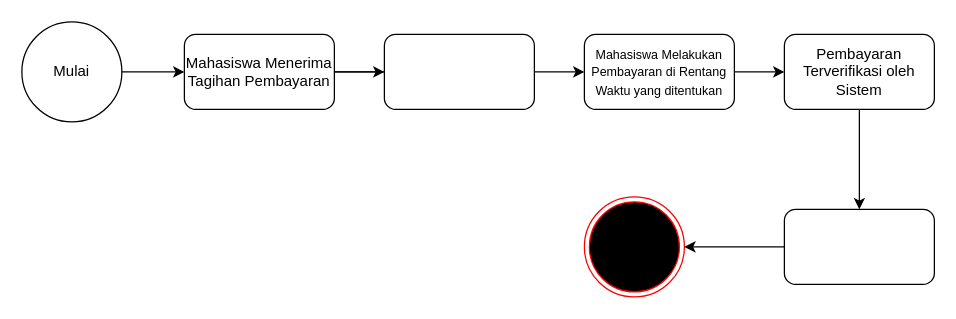
Image size: 956x319. Some labels were removed from this diagram. Each missing label, with the centre of its shape:
"Mahasiswa Memilih Metode Pembayaran yang disediakan oleh Sistem" belongs at pixel 458 71.
"Status Tagihan Pembayaran berubah menjadi Lunas" belongs at pixel 858 246.
